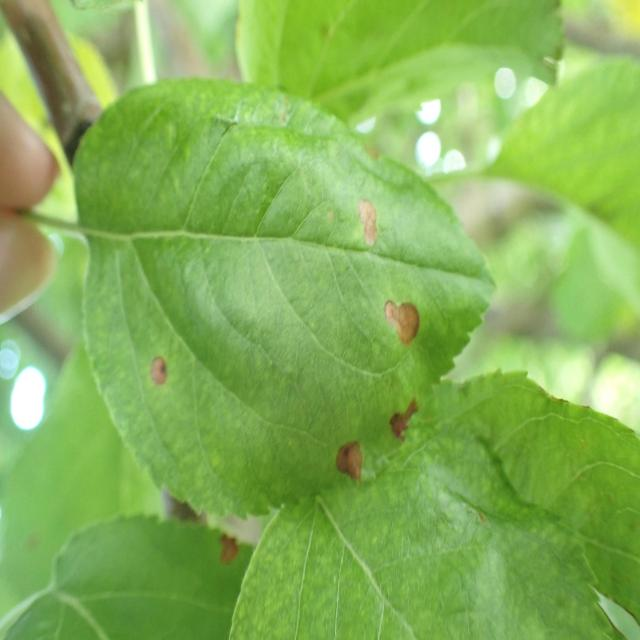Black Rot: (334, 180, 394, 256), (320, 431, 378, 498), (130, 316, 177, 394), (370, 296, 433, 354), (379, 397, 427, 445)
